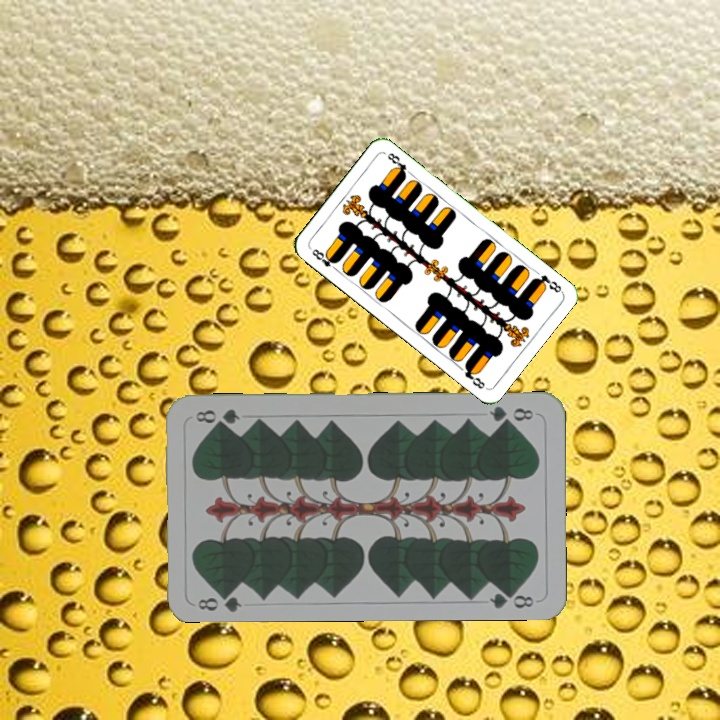E8: (308, 245, 341, 274), (529, 271, 564, 295)
G8: (194, 586, 244, 613), (485, 402, 536, 426)
